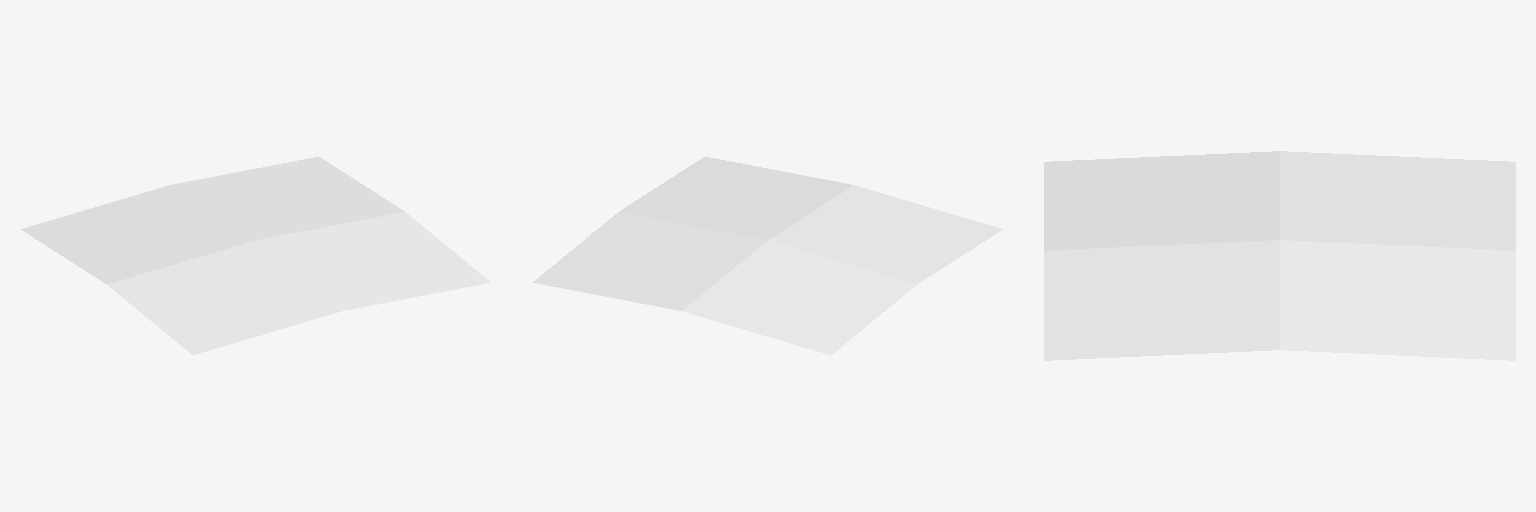
robot.urdf — curved_terrain:
<?xml version="1.0" ?>
<robot name="curved_terrain">
  <link name="terrainLink">
    <contact>
      <lateral_friction value="1"/>
    </contact>
    <inertial>
      <origin rpy="0 0 0" xyz="0 0 0"/>
      <mass value="1.0"/>
      <inertia ixx="1.0" ixy="0" ixz="0" iyy="1.0" iyz="0" izz="1.0"/>
    </inertial>
    <visual>
      <origin rpy="0 0 0" xyz="0 0 0"/>
      <geometry>
        <mesh filename="plane_curved.obj" scale="1 1 1"/>
      </geometry>
      <material name="white">
        <color rgba="1 1 1 1"/>
      </material>
    </visual>
    <collision>
      <origin rpy="0 0 0" xyz="0 0 0"/>
      <geometry>
        <mesh filename="plane_curved.obj" scale="1 1 1"/>
      </geometry>
    </collision>
  </link>
</robot>

--- Render facts (derived) ---
3 views of the same robot in one strip: view 1: azimuth 30°, elevation 25°; view 2: azimuth 150°, elevation 25°; view 3: azimuth 270°, elevation 25° (orthographic).
Model curved_terrain with 1 links and 0 joints (none), rooted at terrainLink, posed all joints at 0.
Visible links, largest first — view 1: terrainLink; view 2: terrainLink; view 3: terrainLink.
Boxes of the visible links, box(x1,y1,x2,y2) form: terrainLink: box(21, 157, 490, 354); terrainLink: box(533, 157, 1002, 354); terrainLink: box(1044, 151, 1515, 360).
Bounding box of the posed robot: 200 × 200 × 10 m (x, y, z).
1 mesh visuals loaded from 1 distinct referenced files (1 OBJ).
